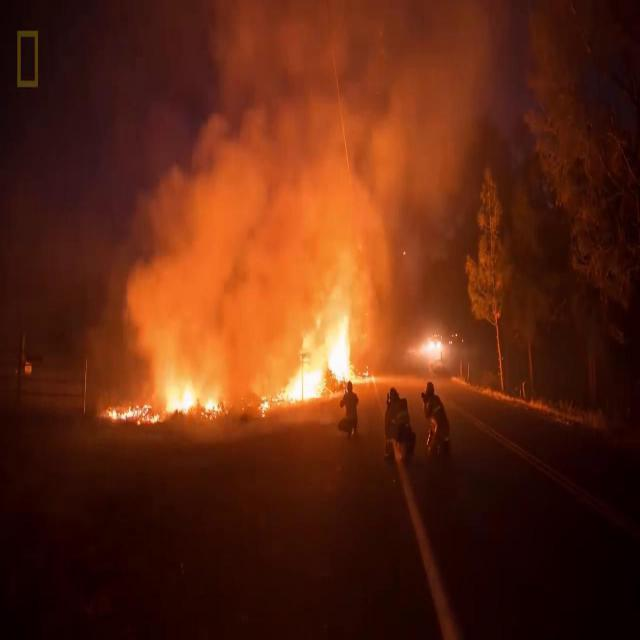Fire: (257, 262, 356, 416), (164, 374, 227, 426), (107, 401, 162, 424)
